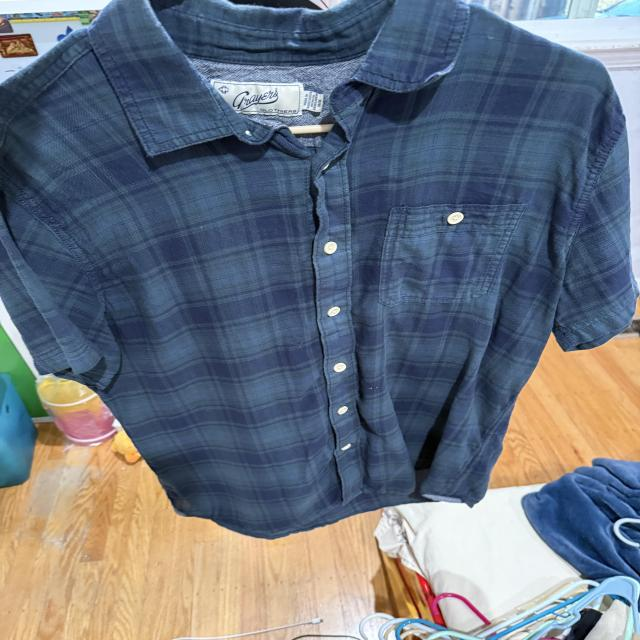back_tag: (211, 70, 328, 126)
